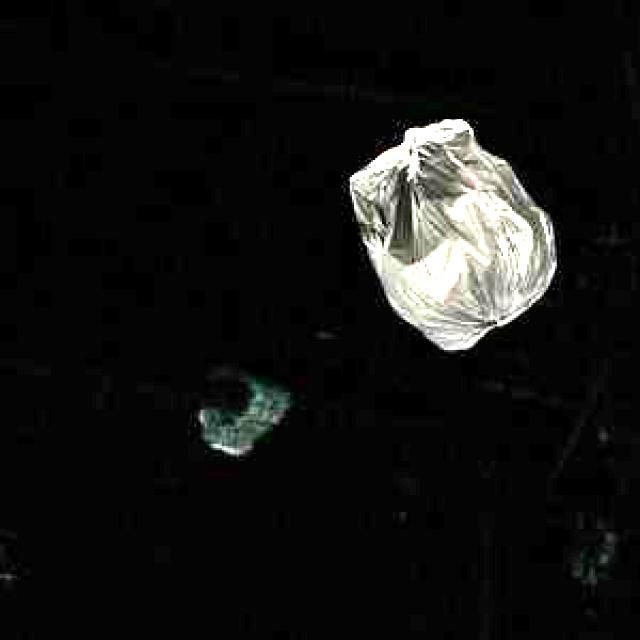Garbage_Bag: (348, 116, 552, 347)
